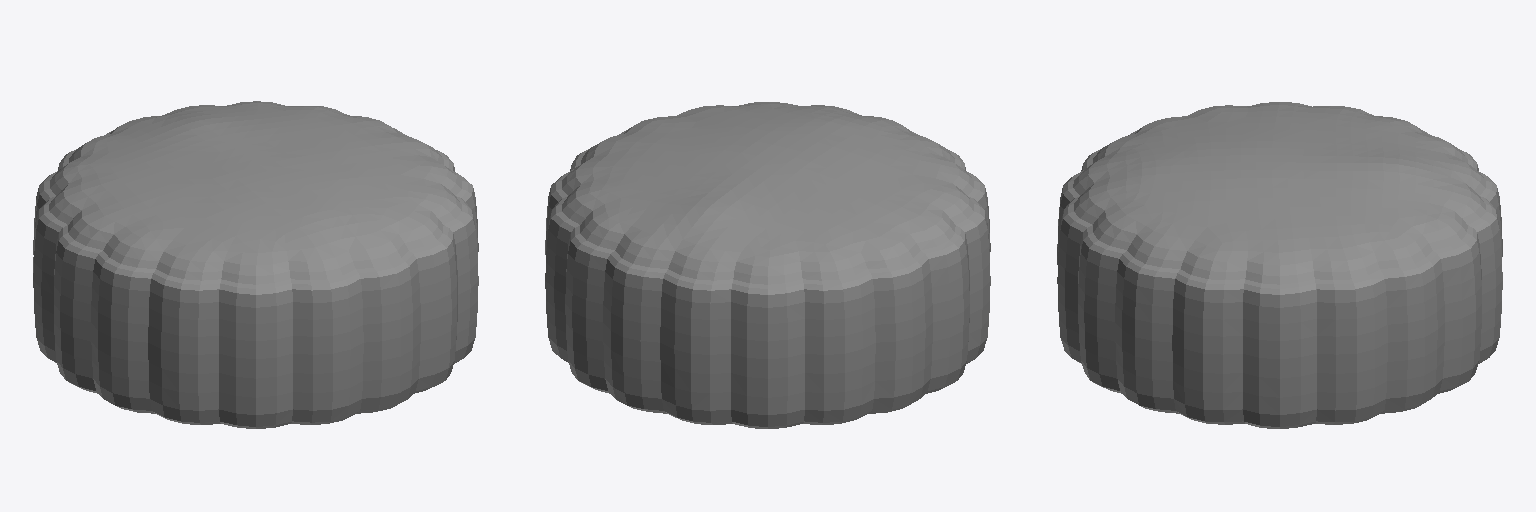
Rendered from mooncake.obj.
The picture shows the model from 3 angles: view 1: azimuth 30°, elevation 25°; view 2: azimuth 150°, elevation 25°; view 3: azimuth 270°, elevation 25°; orthographic projection.
Visible parts, largest first — view 1: polySurface001; view 2: polySurface001; view 3: polySurface001.
Part boxes in pixels (x1,y1,x2,y2): polySurface001: (33, 101, 478, 428); polySurface001: (545, 102, 990, 428); polySurface001: (1057, 102, 1502, 428).
Size of the model in its own units: 122 by 55.88 by 120.